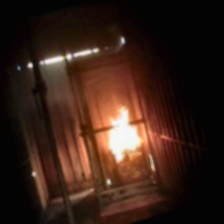fire: (95, 91, 147, 162)
